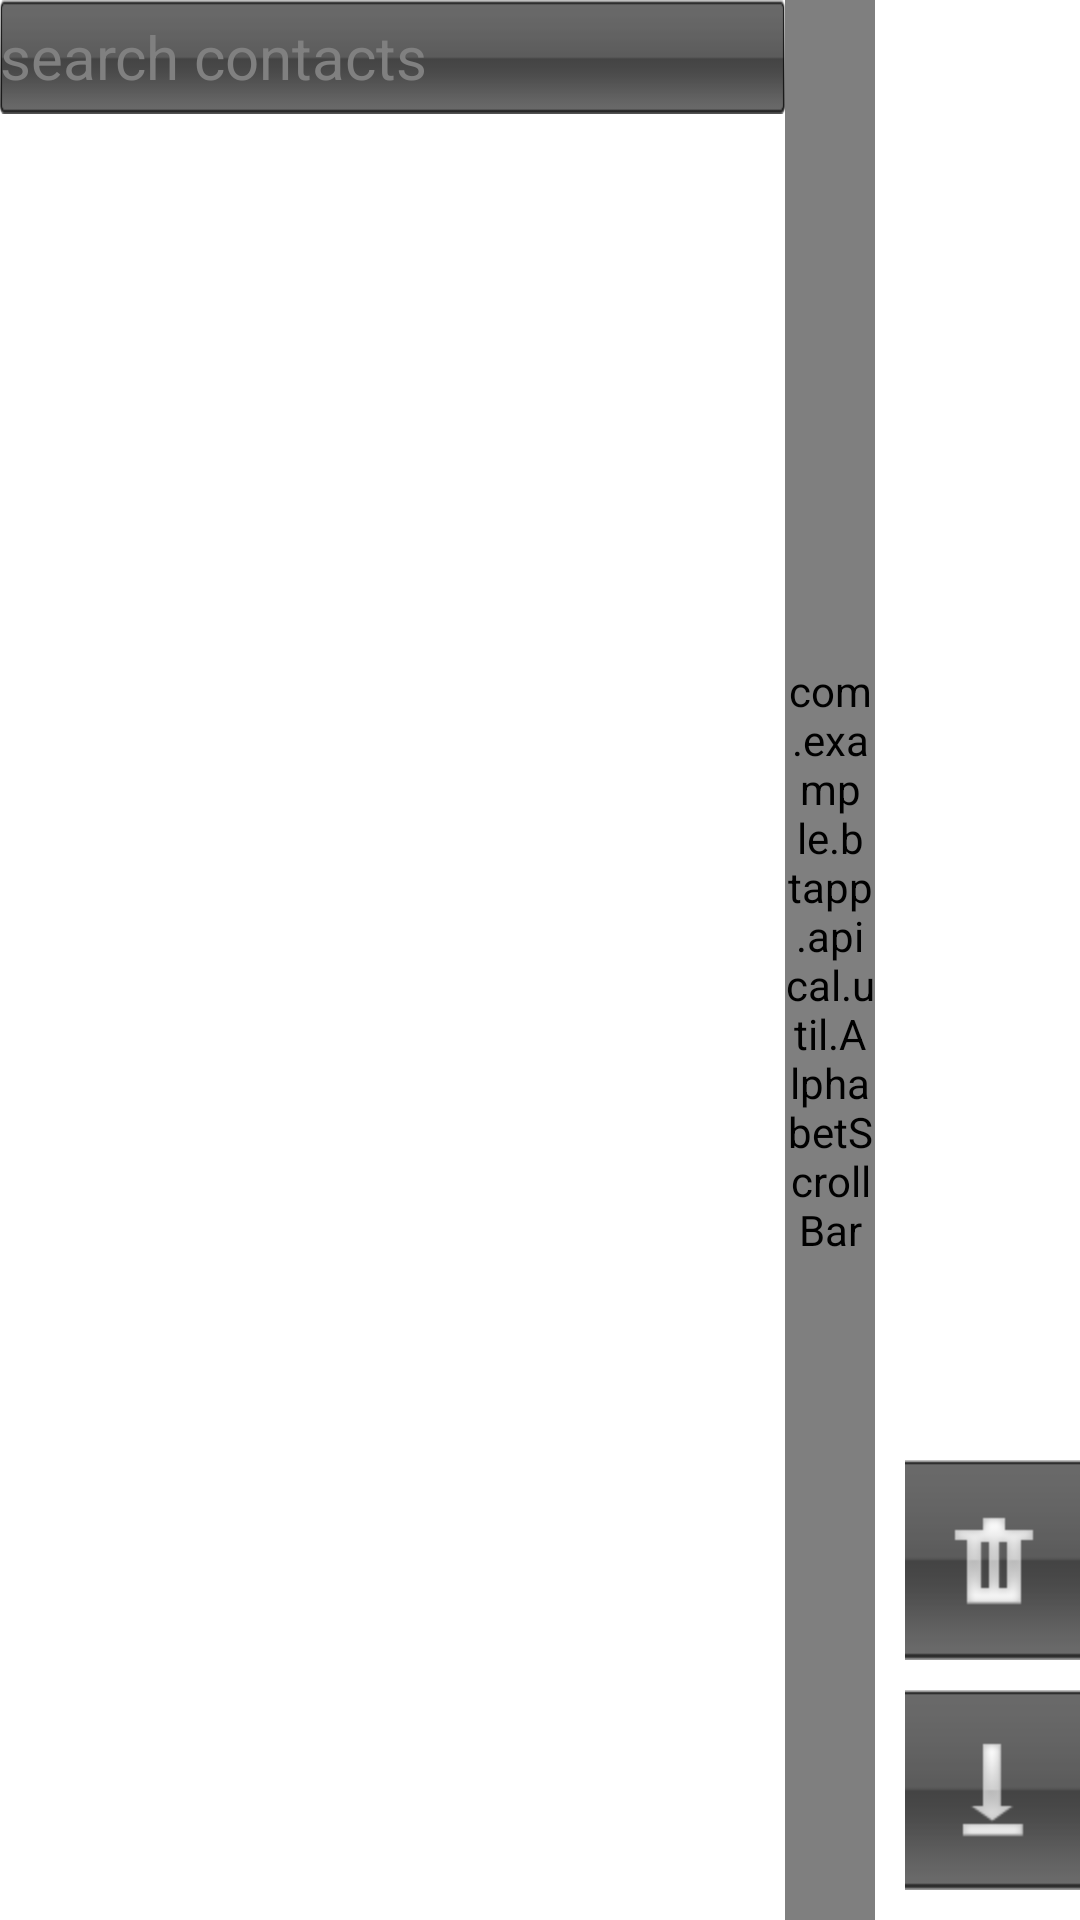

Where to tap for icons on this 1080*1920 app screen, as (x,y):
del pb: (992,1560)
down pb: (992,1790)
